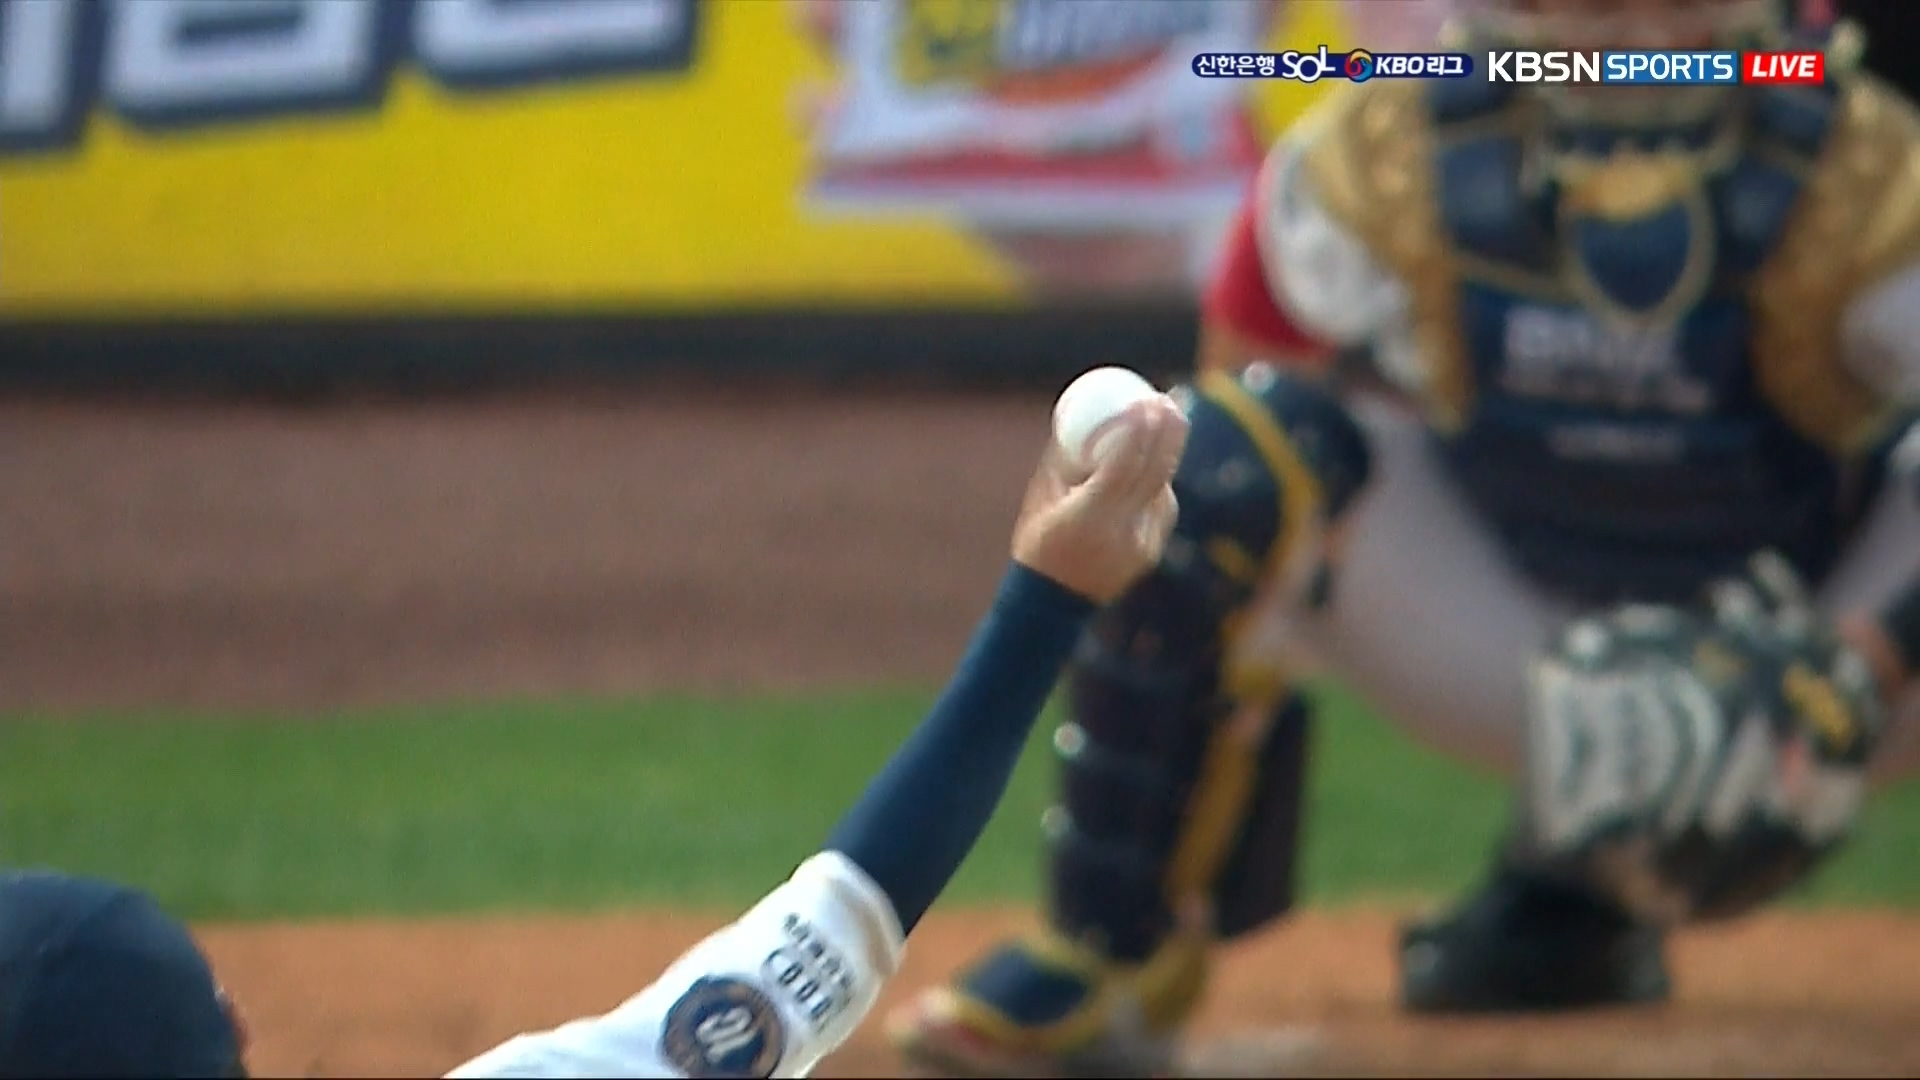zoomin_hand: (789, 348, 1199, 988)
